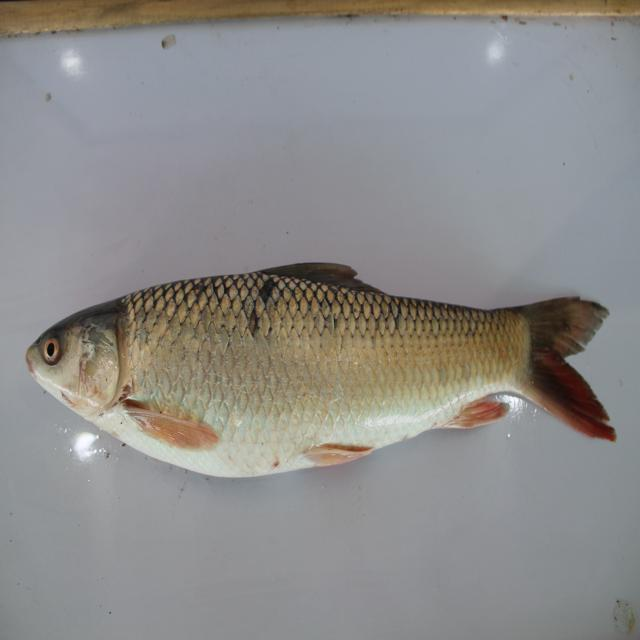Mori: (20, 252, 628, 488)
